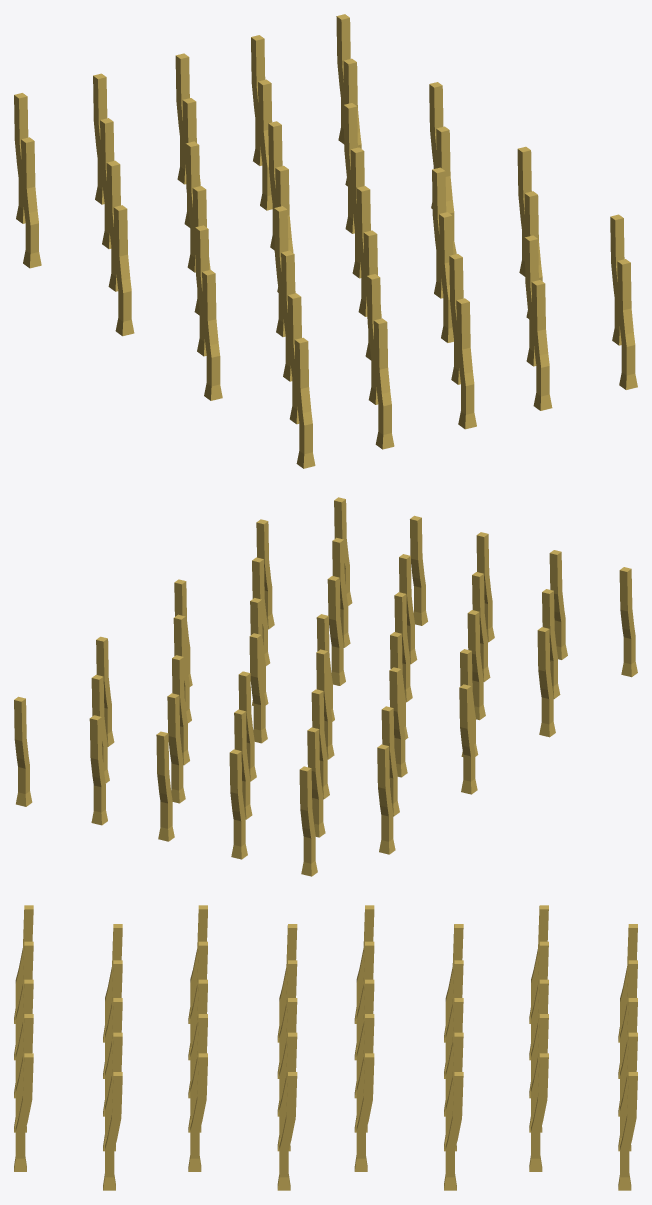
File: campo trigo colhido.fbx
3 renders of one model, top to bottom at view 1: azimuth 30°, elevation 25°; view 2: azimuth 150°, elevation 25°; view 3: azimuth 270°, elevation 25°, orthographic. The views are drawn at different scales.
Visible parts, largest first — view 1: Cube.021; view 2: Cube.021; view 3: Cube.021.
Boxes of the visible parts, bbox=[...] form: Cube.021: bbox=[14, 14, 637, 468]; Cube.021: bbox=[14, 497, 637, 876]; Cube.021: bbox=[14, 905, 637, 1190].
Size of the model in its own units: 434 by 134 by 666.
